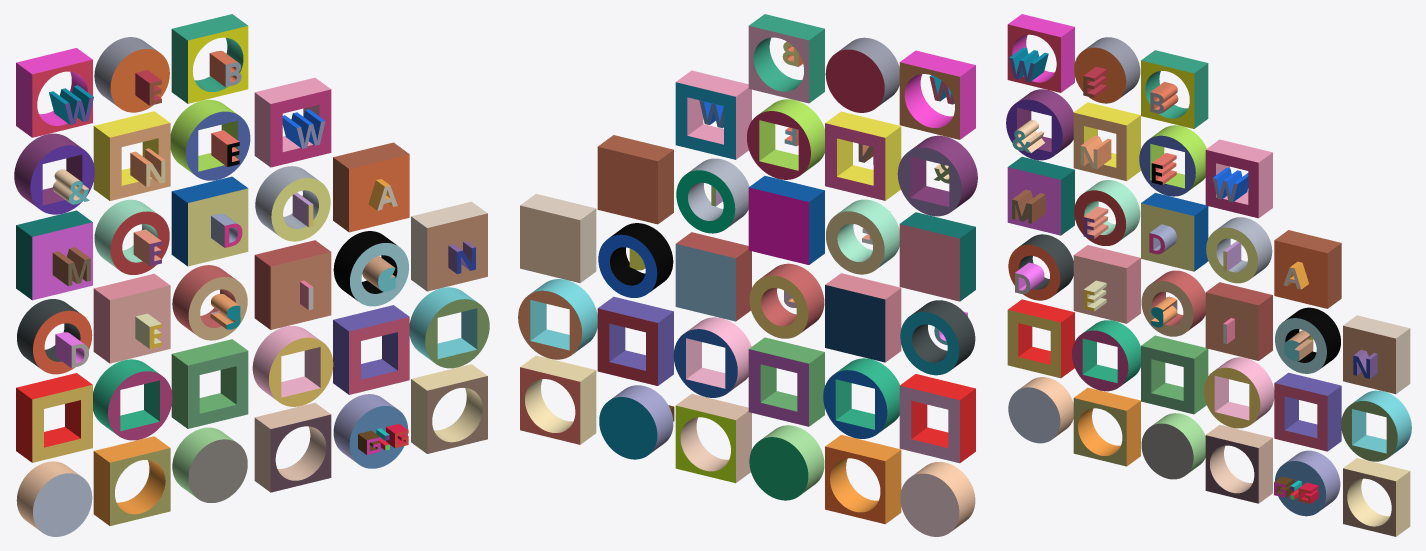
Rendered from postcard.obj.
The picture shows the model from 3 angles, left to right: view 1: azimuth 30°, elevation 25°; view 2: azimuth 150°, elevation 25°; view 3: azimuth 330°, elevation 25°; orthographic projection. The views are drawn at different scales.
Visible parts, largest first — view 1: Cap_1_9, Cap_1_6, Path_9_1, Path_4, Path_8, Cap_1, Cap_1_21, Cap_1_15, Path_1_3, Path_1_5, Path_4_1, Cap_1_14 (+61 smaller); view 2: Cap_2_15, Cap_2_27, Cap_2, Cap_2_6, Cap_2_9, Cap_2_21, Path_4, Path_9_1, Path_9_2, Path_9, Path_8, Path_1_5 (+48 smaller); view 3: Cap_1_9, Cap_1_6, Path_4, Path_9_1, Path_8, Cap_1_21, Cap_1, Cap_1_15, Path_4_1, Path_1_3, Path_1_5, Cap_1_14 (+57 smaller).
Part boxes in pixels (x1=…): Cap_1_9: x1=270, y1=252, x2=331, y2=329; Cap_1_6: x1=349, y1=154, x2=409, y2=232; Path_9_1: x1=93, y1=436, x2=169, y2=525; Path_4: x1=411, y1=364, x2=487, y2=453; Path_8: x1=254, y1=402, x2=330, y2=492; Cap_1: x1=427, y1=213, x2=487, y2=291; Cap_1_21: x1=110, y1=285, x2=170, y2=363; Cap_1_15: x1=188, y1=188, x2=248, y2=266; Path_1_3: x1=171, y1=339, x2=247, y2=428; Path_1_5: x1=16, y1=373, x2=92, y2=462; Path_4_1: x1=333, y1=305, x2=409, y2=394; Cap_1_14: x1=188, y1=439, x2=247, y2=502; Cap_2_15: x1=748, y1=187, x2=808, y2=264; Cap_2_27: x1=899, y1=224, x2=959, y2=301; Cap_2: x1=520, y1=205, x2=580, y2=282; Cap_2_6: x1=597, y1=147, x2=657, y2=224; Cap_2_9: x1=675, y1=244, x2=735, y2=321; Cap_2_21: x1=825, y1=285, x2=885, y2=362; Path_4: x1=520, y1=355, x2=596, y2=444; Path_9_1: x1=825, y1=435, x2=901, y2=523; Path_9_2: x1=900, y1=50, x2=975, y2=139; Path_9: x1=749, y1=14, x2=824, y2=103; Path_8: x1=676, y1=394, x2=751, y2=482; Path_1_5: x1=900, y1=374, x2=975, y2=462; Cap_1_9: x1=1205, y1=292, x2=1258, y2=360; Cap_1_6: x1=1274, y1=240, x2=1327, y2=308; Path_4: x1=1343, y1=458, x2=1410, y2=536; Path_9_1: x1=1074, y1=387, x2=1140, y2=466; Path_8: x1=1206, y1=425, x2=1272, y2=503; Cap_1_21: x1=1073, y1=255, x2=1126, y2=323; Cap_1: x1=1343, y1=325, x2=1395, y2=394; Cap_1_15: x1=1141, y1=203, x2=1194, y2=271; Path_4_1: x1=1275, y1=372, x2=1341, y2=450; Path_1_3: x1=1141, y1=335, x2=1208, y2=413; Path_1_5: x1=1008, y1=299, x2=1074, y2=377; Cap_1_14: x1=1141, y1=423, x2=1193, y2=479.
Size of the model in its own units: 20.31 by 20.22 by 2.46.
